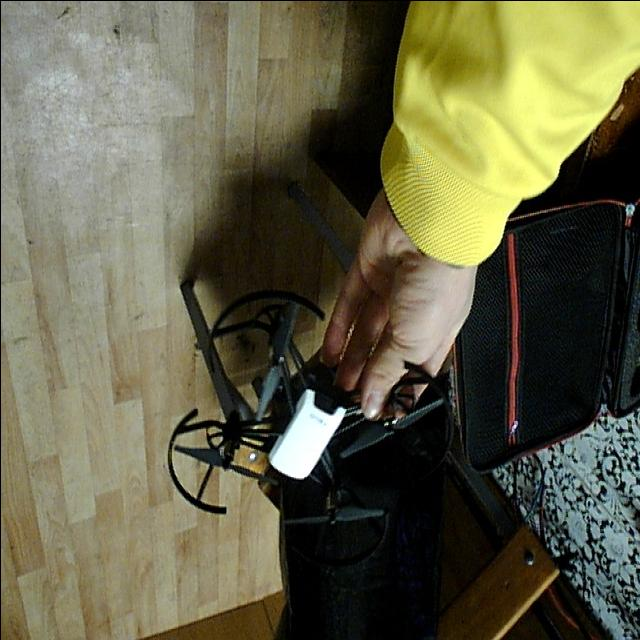drone: (158, 269, 454, 583)
